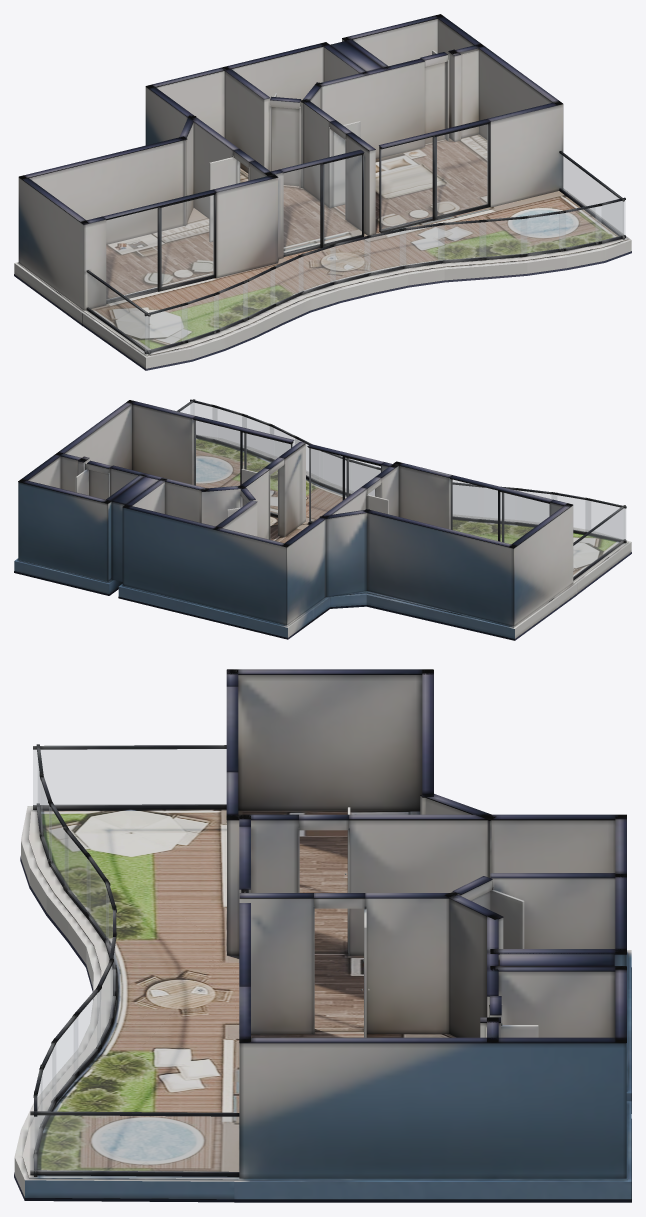
The picture shows the model from 3 angles, top to bottom: view 1: azimuth 30°, elevation 25°; view 2: azimuth 150°, elevation 25°; view 3: azimuth 270°, elevation 25°; orthographic projection. The views are drawn at different scales.
Visible parts, largest first — view 1: plan, glass2_m, glass0_m, glass1_m, railg15_m, railg0_m, railg7_m, railg6_m, railg4_m, railg5_m, railg3_m, railg14_m (+8 smaller); view 2: plan, glass2_m, glass0_m, glass1_m, railg15_m, railg14_m, railg10_m, railg3_m, railg11_m, railg12_m, railg5_m, railg13_m (+5 smaller); view 3: plan, railg0_m, railg15_m, railg7_m, railg11_m, railg6_m, railg10_m, railg12_m, railg4_m, railg5_m.
Part boxes in pixels (box(x1,y1,x2,y2)): plan: box(14, 14, 631, 370); glass2_m: box(380, 124, 487, 230); glass0_m: box(106, 195, 213, 300); glass1_m: box(284, 155, 361, 253); railg15_m: box(87, 273, 149, 351); railg0_m: box(560, 154, 623, 236); railg7_m: box(438, 222, 485, 260); railg6_m: box(479, 219, 526, 257); railg4_m: box(400, 225, 444, 265); railg5_m: box(521, 213, 565, 254); railg3_m: box(559, 206, 601, 248); railg14_m: box(145, 305, 187, 351); plan: box(14, 399, 631, 640); glass2_m: box(194, 420, 292, 513); glass0_m: box(451, 479, 549, 543); glass1_m: box(309, 448, 380, 522); railg15_m: box(573, 509, 624, 576); railg14_m: box(585, 500, 625, 540); railg10_m: box(453, 485, 477, 518); railg3_m: box(212, 407, 246, 446); railg11_m: box(484, 488, 520, 521); railg12_m: box(517, 490, 556, 524); railg5_m: box(242, 416, 273, 457); railg13_m: box(551, 495, 590, 531); plan: box(14, 669, 631, 1202); railg0_m: box(30, 1115, 238, 1172); railg15_m: box(33, 749, 226, 805); railg7_m: box(74, 990, 100, 1074); railg11_m: box(65, 832, 90, 915); railg6_m: box(53, 1017, 77, 1100); railg10_m: box(87, 859, 108, 941); railg12_m: box(49, 806, 68, 888); railg4_m: box(97, 966, 112, 1047); railg5_m: box(41, 1045, 55, 1122).
Size of the model in its own units: 13.44 by 2.62 by 9.3.
Materials: 2 (1 with a texture image).
